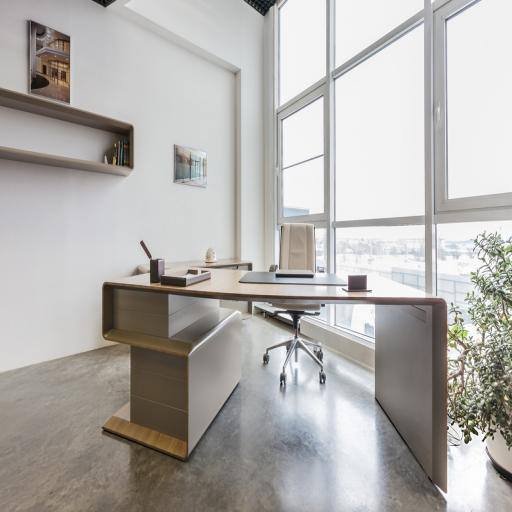chair: (263, 221, 326, 384)
desk: (102, 266, 448, 493)
wall: (0, 0, 263, 372)
